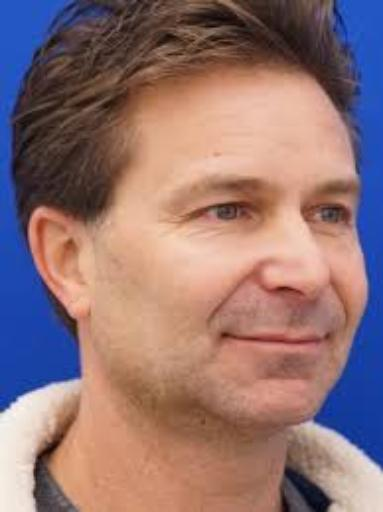left_eye: (306, 205, 354, 229)
left_lip_corner: (321, 331, 337, 350)
right_eye: (183, 200, 261, 229)
right_lip_corner: (215, 327, 236, 349)
